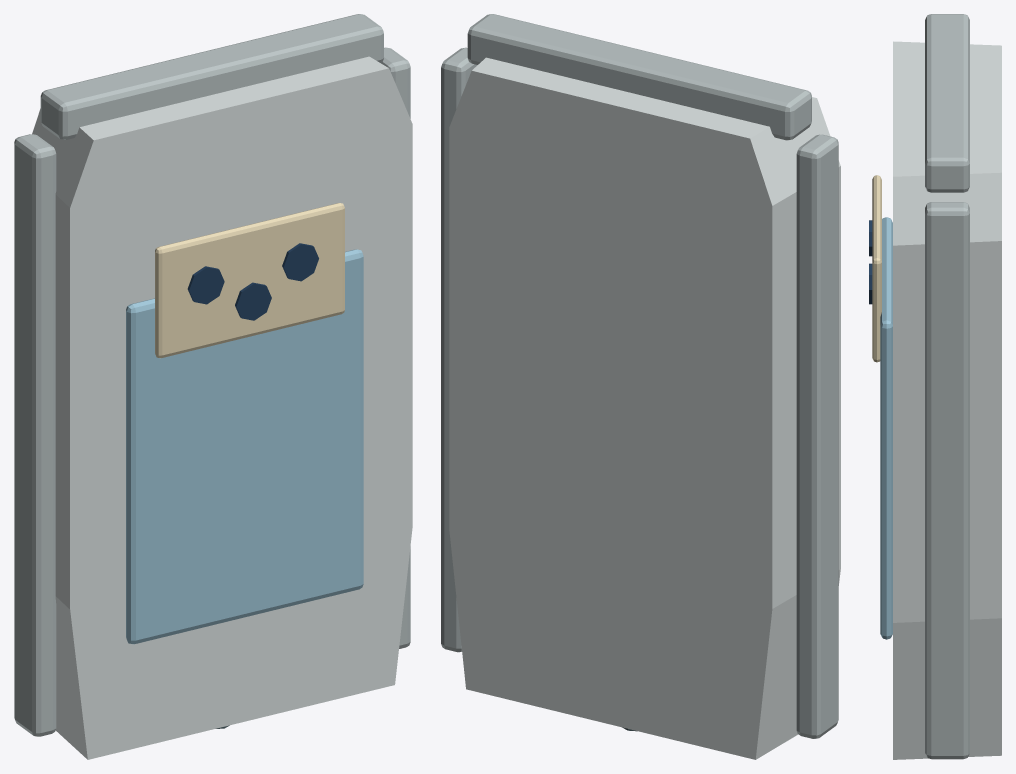
File: supply_pouch.glb
3 views of the same model, side by side, from view 1: azimuth 30°, elevation 25°; view 2: azimuth 150°, elevation 25°; view 3: azimuth 270°, elevation 25° (orthographic). The views are drawn at different scales.
Parts seen in each view (by area): view 1: supply_pouch; view 2: supply_pouch; view 3: supply_pouch.
Part boxes in pixels (x1,y1,x2,y2): supply_pouch: (14, 14, 412, 759); supply_pouch: (441, 14, 840, 759); supply_pouch: (869, 14, 1001, 759).
Size of the model in its own units: 0.128 by 0.214 by 0.0415.
